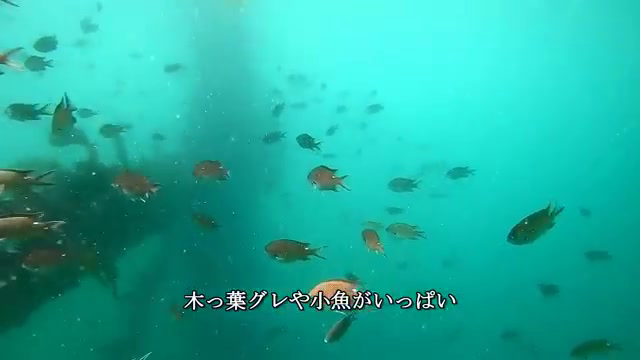smallfish: (496, 195, 568, 254), (260, 229, 327, 275), (299, 159, 358, 207), (382, 213, 436, 252), (110, 165, 159, 206), (49, 88, 83, 143), (5, 98, 54, 129), (185, 158, 236, 185), (383, 169, 425, 199), (20, 51, 58, 80), (446, 160, 486, 187), (255, 122, 289, 149), (91, 116, 131, 136), (292, 131, 323, 152)
